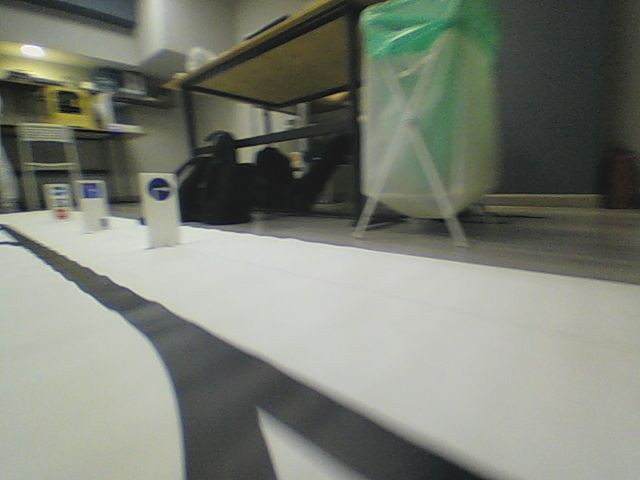Right: (146, 176, 171, 202)
